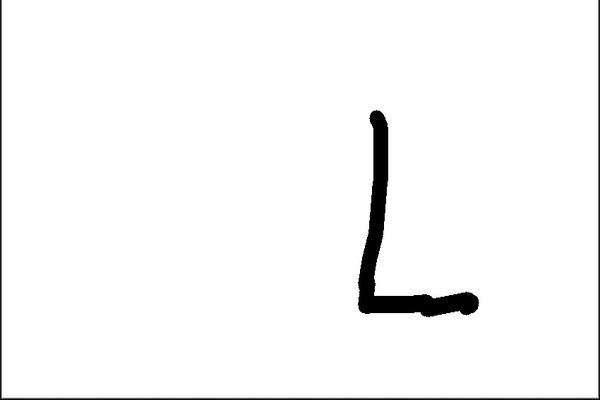L: (348, 102, 485, 320)
